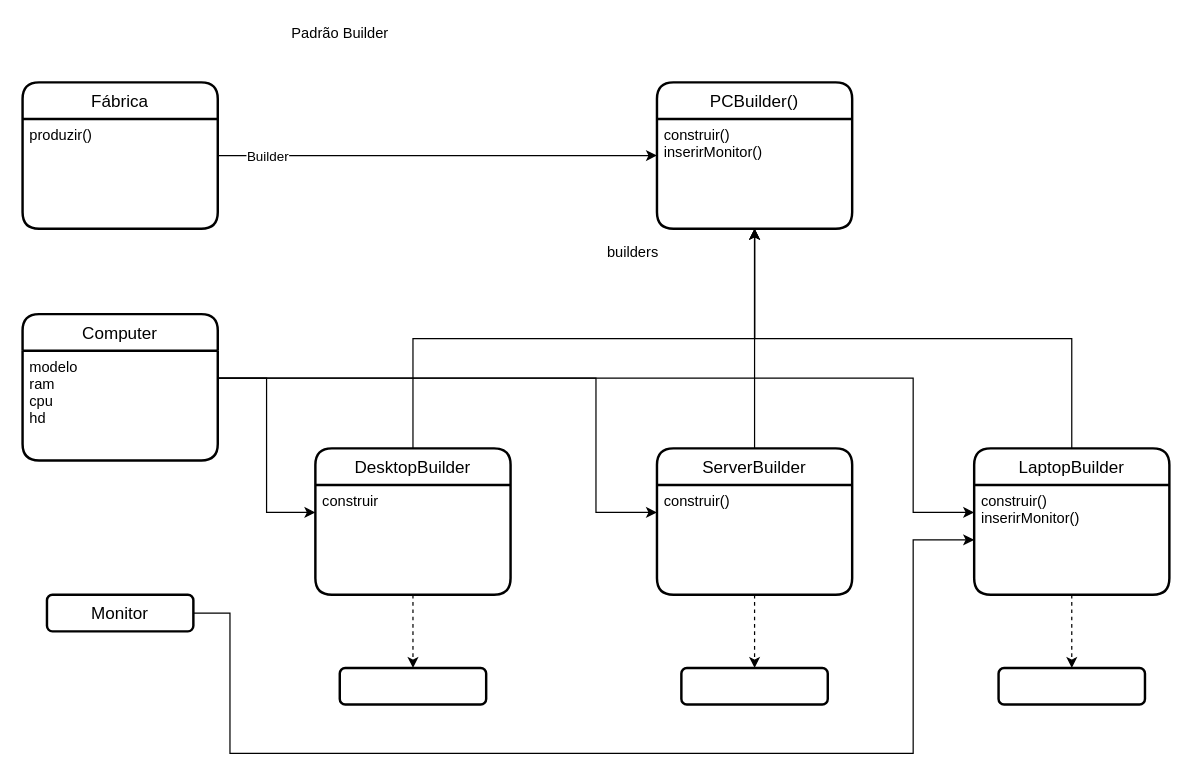
Image size: 1191x784. Some labels were removed from this diagram. The shapes that lost their labels are listed below. From the top down, each one's centre as x and y in pixels, then its label:
At (412,685): "Desktop".
At (754,685): "Server".
At (1071,685): "Laptop".
